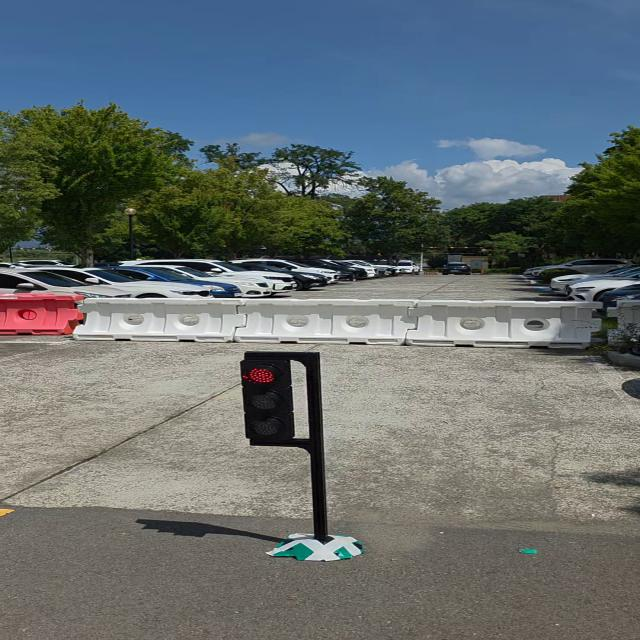red: (234, 357, 298, 444)
